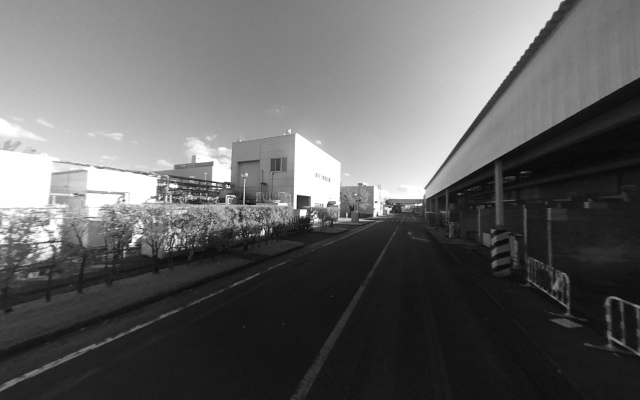bollard: (492, 226, 514, 277)
